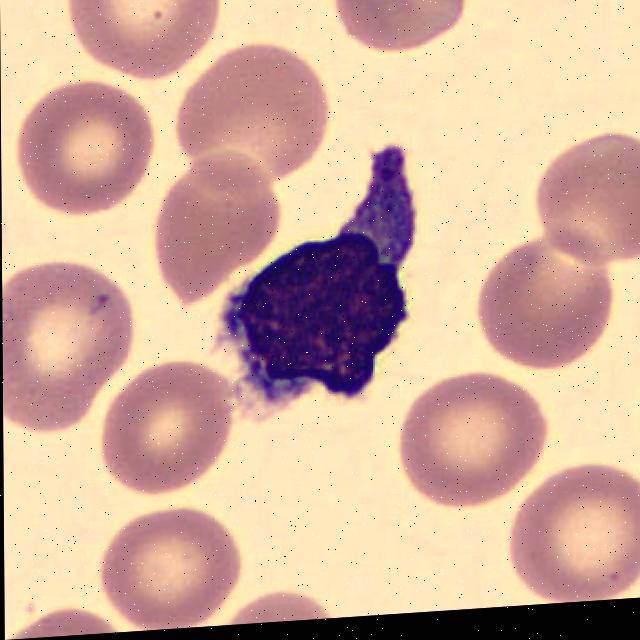lymphocyte: (230, 157, 417, 420)
rbc: (2, 267, 134, 430), (472, 223, 610, 377), (402, 365, 545, 510), (178, 51, 326, 186), (508, 457, 640, 606), (159, 155, 277, 317), (109, 502, 240, 633), (22, 78, 146, 208), (528, 127, 640, 269), (111, 366, 228, 493), (68, 0, 212, 73), (344, 0, 473, 47), (230, 593, 333, 625), (17, 606, 115, 639), (28, 623, 29, 632)
